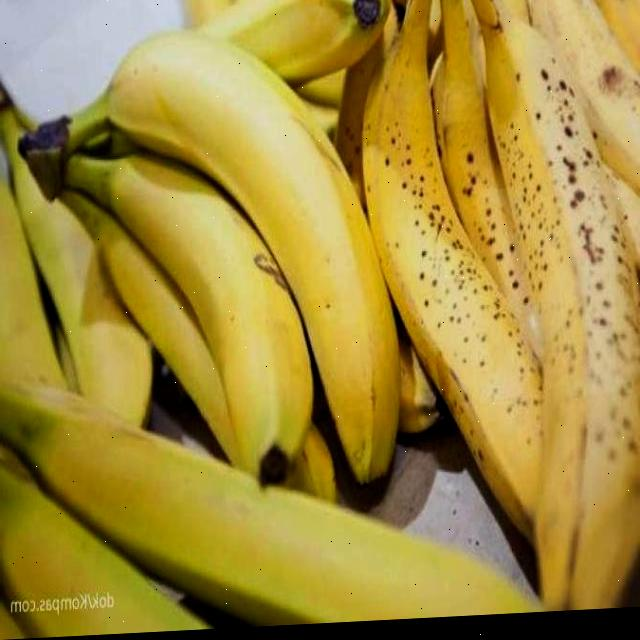banana: (4, 0, 636, 633), (360, 3, 627, 616), (61, 19, 402, 493), (3, 339, 532, 634)
